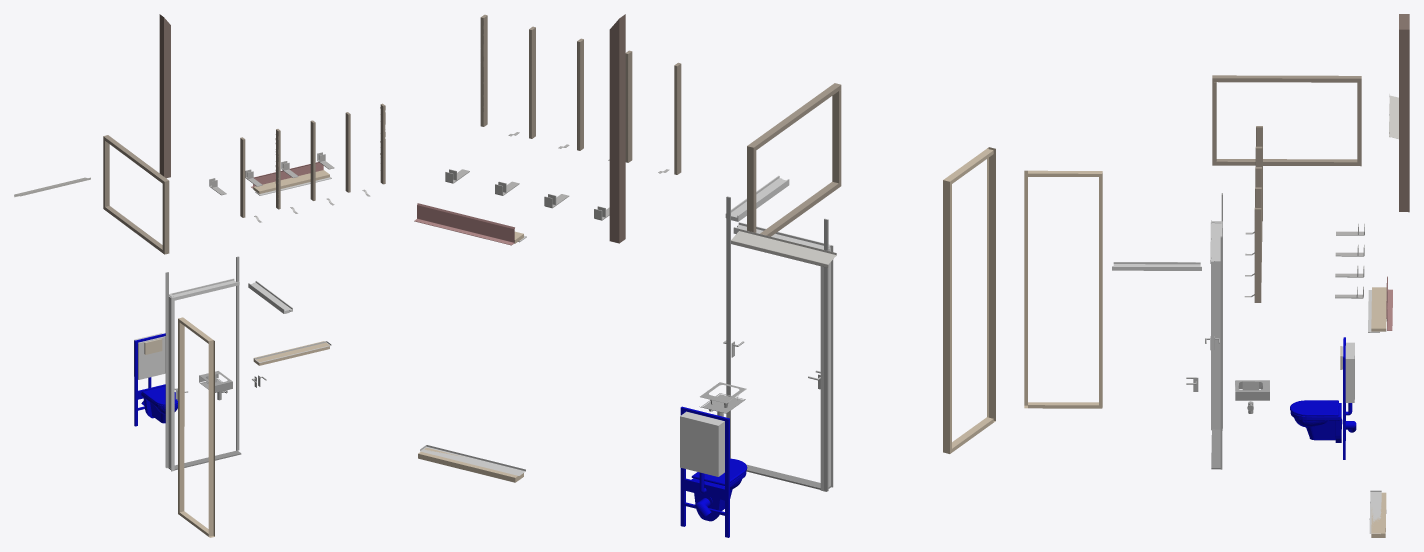
3 renders of one model, left to right at view 1: azimuth 30°, elevation 25°; view 2: azimuth 150°, elevation 25°; view 3: azimuth 270°, elevation 25°, orthographic. The views are drawn at different scales.
Bounding box in the file's own units: 4.45 × 5.22 × 4.
